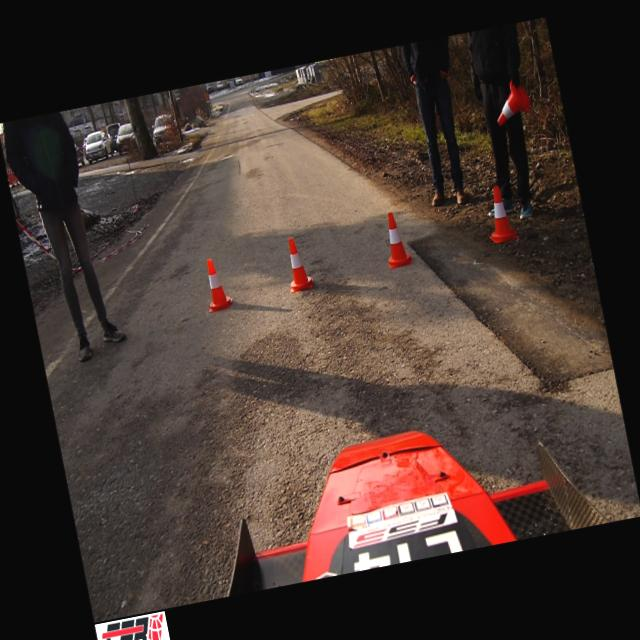orange_cone: (481, 184, 518, 244), (491, 77, 534, 126), (380, 210, 412, 268), (200, 256, 233, 312), (282, 235, 314, 292)
